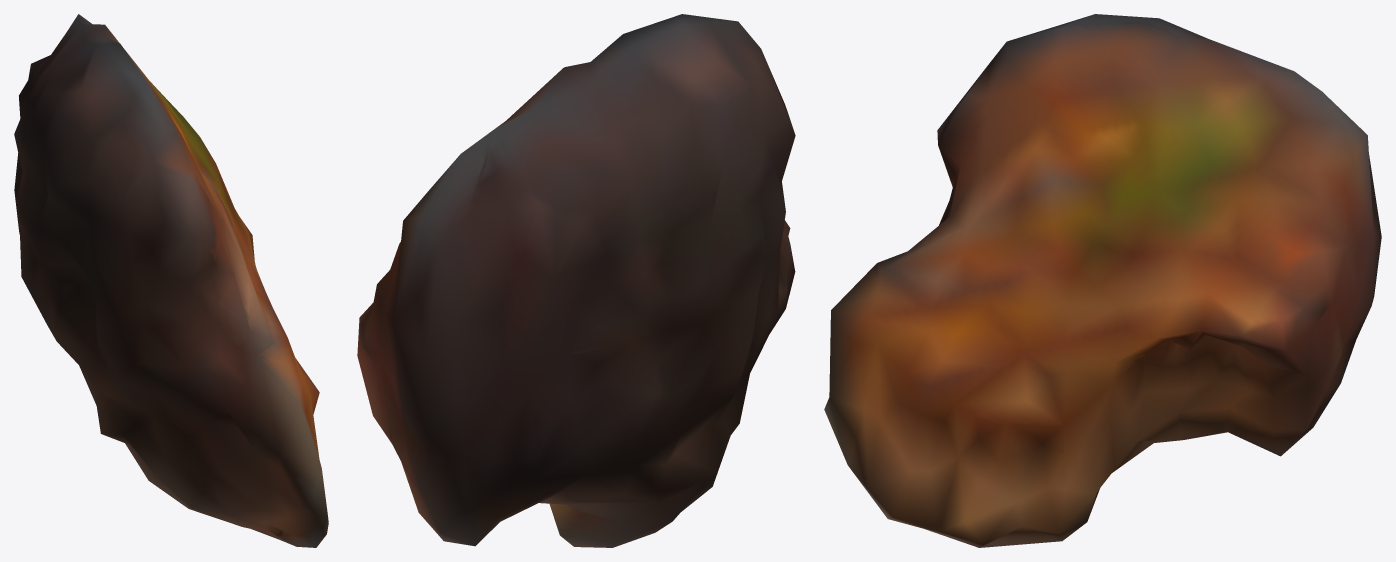
File: dish_stalk_steak.glb
3 views of the same model, side by side, from view 1: azimuth 30°, elevation 25°; view 2: azimuth 150°, elevation 25°; view 3: azimuth 270°, elevation 25° (orthographic). The views are drawn at different scales.
Parts seen in each view (by area): view 1: model; view 2: model; view 3: model.
Part boxes in pixels (bbox=[...]): model: bbox=[14, 14, 328, 547]; model: bbox=[357, 14, 795, 547]; model: bbox=[824, 14, 1381, 547].
Bounding box in the file's own units: 0.2021 × 0.3826 × 0.4002.
Materials: 1 (1 with a texture image).
